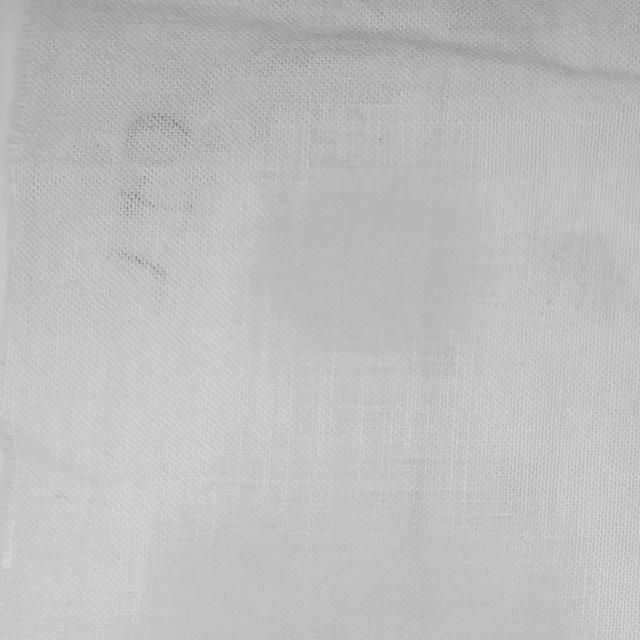Stain: (111, 111, 202, 163), (110, 246, 171, 318), (114, 183, 196, 217)
